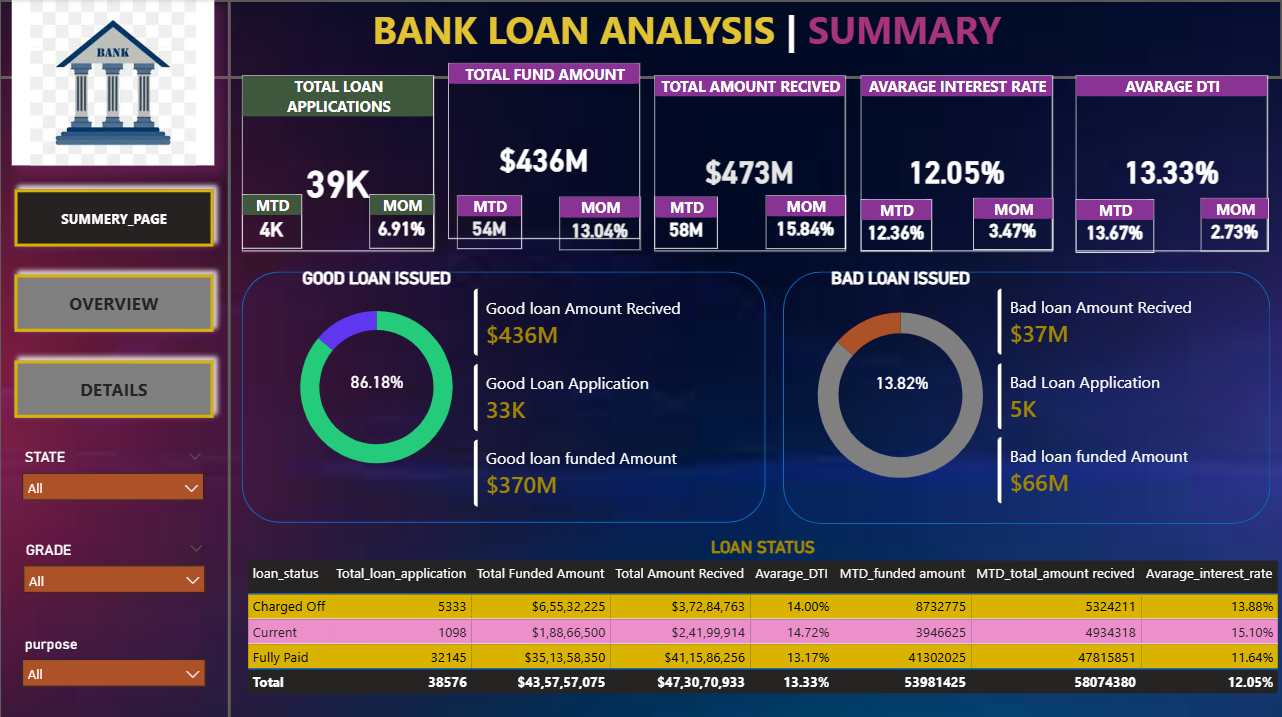

The page's visual inventory and layout, read from the dashboard file:
{"tool":"powerbi","page":{"name":"SUMMERY_PAGE","canvas":[1280,720],"ordinal":0},"visuals":[{"type":"actionButton","box":[0,0,1280,79.6],"z":0},{"type":"actionButton","box":[0,0,231.7,720],"z":1000},{"type":"textbox","box":[250,0,870.8,63.4],"z":2000},{"type":"card","title":"TOTAL LOAN APPLICATIONS","fields":{"Values":["measure.Total_loan_application"]},"box":[242.6,75.9,191.6,175.4],"z":3000},{"type":"card","title":"MTD","fields":{"Values":["measure.MTD_loan_app"]},"box":[242.6,194.1,59.7,54.7],"z":4000},{"type":"card","title":"MOM","fields":{"Values":["measure.MOM_Loan_application"]},"box":[369.5,194.1,64.7,54.7],"z":5000},{"type":"card","title":"TOTAL FUND AMOUNT","fields":{"Values":["measure.Total Funded Amount"]},"box":[447.8,63.4,191.6,175.4],"z":6000},{"type":"card","title":"MTD","fields":{"Values":["measure.MTD_funded amount"]},"box":[456.5,195.3,64.7,53.5],"z":7000},{"type":"card","title":"MOM","fields":{"Values":["measure.MOM_Total_FUND_AMOUNT"]},"box":[558.5,196.5,80.9,53.5],"z":8000},{"type":"card","title":"TOTAL AMOUNT RECIVED","fields":{"Values":["measure.Total Amount Recived"]},"box":[653.1,75.9,190.3,175.4],"z":9000},{"type":"card","title":"MTD","fields":{"Values":["measure.MTD_total_amount recived"]},"box":[653.1,196.5,63.4,52.2],"z":10000},{"type":"card","title":"MOM","fields":{"Values":["measure.MOM total amount recived"]},"box":[763.8,195.3,79.6,53.5],"z":11000},{"type":"card","title":"AVARAGE INTEREST RATE","fields":{"Values":["measure.Avarage_interest_rate"]},"box":[858.3,75.9,191.6,175.4],"z":12000},{"type":"card","title":"MTD","fields":{"Values":["measure.MTD_avarage_int_rate"]},"box":[858.3,199,70.9,52.2],"z":13000},{"type":"card","title":"MOM","fields":{"Values":["measure.MOM_avg_int_rate"]},"box":[970.3,197.8,79.6,52.2],"z":14000},{"type":"card","title":"AVARAGE DTI","fields":{"Values":["measure.Avarage_DTI"]},"box":[1072.3,75.9,191.6,175.4],"z":15000},{"type":"card","title":"MTD","fields":{"Values":["measure.MTD _AVARAGE_DTI"]},"box":[1072.3,199,78.4,53.5],"z":16000},{"type":"card","title":"MOM","fields":{"Values":["measure.MOM AVG DTI"]},"box":[1196.7,198.3,68.3,53.3],"z":17000},{"type":"shape","box":[242.6,271.2,521.2,250],"z":18000},{"type":"shape","box":[781.2,271.2,485.1,251.3],"z":19000},{"type":"donutChart","title":"GOOD LOAN ISSUED","fields":{"Category":["financial_loan.Good Vs Bad Loan"],"Y":["measure.Total_loan_application"]},"box":[249.6,267.1,253.6,218.7],"z":20000},{"type":"card","fields":{"Values":["measure.Good_Loan_%"]},"box":[330.1,359.7,95.3,44.3],"z":21000},{"type":"cardVisual","fields":{"Data":["measure.Good loan Amount Recived","measure.Good Loan Application","measure.Good loan funded Amount"]},"box":[456.5,271.2,286.1,251.3],"z":22000},{"type":"donutChart","title":"BAD LOAN ISSUED","fields":{"Y":["measure.Total_loan_application"],"Category":["financial_loan.Good Vs Bad Loan"]},"box":[786.4,267.1,224.1,234.9],"z":23000},{"type":"cardVisual","fields":{"Data":["measure.Bad loan Amount Recived","measure.Bad Loan Application","measure.Bad loan funded Amount"]},"box":[977.8,271.2,284.9,250],"z":24000},{"type":"card","fields":{"Values":["measure.Bad_Loan_%"]},"box":[852.2,361,95.3,44.3],"z":25000},{"type":"tableEx","title":"LOAN STATUS","fields":{"Values":["financial_loan.loan_status","measure.Total_loan_application","measure.Total Funded Amount","measure.Total Amount Recived","measure.Avarage_DTI","measure.MTD_funded amount","measure.MTD_total_amount recived","measure.Avarage_interest_rate"]},"box":[242.6,534.9,1037.5,185.3],"z":26000},{"type":"slicer","fields":{"Values":["financial_loan.address_state"]},"box":[13.7,442.8,201.5,78.4],"z":27000},{"type":"slicer","fields":{"Values":["financial_loan.grade"]},"box":[14.9,534.9,201.5,77.1],"z":28000},{"type":"slicer","fields":{"Values":["financial_loan.purpose"]},"box":[13.7,628.2,202.8,78.4],"z":29000},{"type":"pageNavigator","box":[7.5,180.4,216.4,245.1],"z":30000},{"type":"image","box":[13.7,0,201.5,165.4],"z":31000}]}

Visuals, with their boxes in screenshot pixels (x1, y1, x2, y2), scaled from the page's 1280x720 canvas onto the 1282x717 screenshot:
actionButton: 0 0 1281 79
actionButton: 0 0 232 716
textbox: 250 0 1123 63
"TOTAL LOAN APPLICATIONS" card: 243 76 435 250
"MTD" card: 243 193 303 248
"MOM" card: 370 193 435 248
"TOTAL FUND AMOUNT" card: 448 63 640 238
"MTD" card: 457 194 522 248
"MOM" card: 559 196 640 249
"TOTAL AMOUNT RECIVED" card: 654 76 845 250
"MTD" card: 654 196 718 248
"MOM" card: 765 194 845 248
"AVARAGE INTEREST RATE" card: 860 76 1052 250
"MTD" card: 860 198 931 250
"MOM" card: 972 197 1052 249
"AVARAGE DTI" card: 1074 76 1266 250
"MTD" card: 1074 198 1152 251
"MOM" card: 1199 197 1267 251
shape: 243 270 765 519
shape: 782 270 1268 520
"GOOD LOAN ISSUED" donutChart: 250 266 504 484
card - measure.Good_Loan_%: 331 358 426 402
cardVisual - measure.Good loan Amount Recived x measure.Good Loan Application: 457 270 744 520
"BAD LOAN ISSUED" donutChart: 788 266 1012 500
cardVisual - measure.Bad loan Amount Recived x measure.Bad Loan Application: 979 270 1265 519
card - measure.Bad_Loan_%: 854 359 949 404
"LOAN STATUS" tableEx: 243 533 1281 716
slicer - financial_loan.address_state: 14 441 216 519
slicer - financial_loan.grade: 15 533 217 609
slicer - financial_loan.purpose: 14 626 217 704
pageNavigator: 8 180 224 424
image: 14 0 216 165
